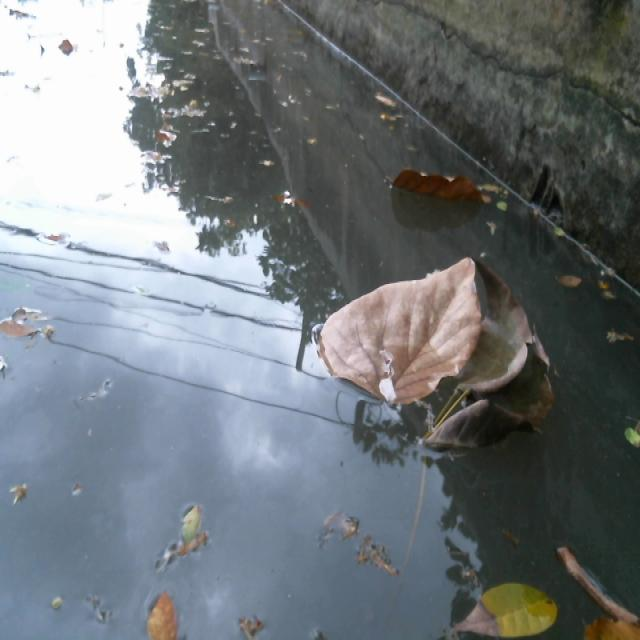Big-leaf: (301, 252, 491, 411), (418, 254, 552, 461), (564, 537, 640, 640), (385, 158, 495, 225)
Small-leaf: (458, 577, 562, 640), (164, 482, 212, 560), (135, 579, 182, 640), (264, 176, 323, 221), (378, 80, 415, 138), (555, 261, 594, 302), (602, 320, 640, 352), (618, 416, 640, 447)
